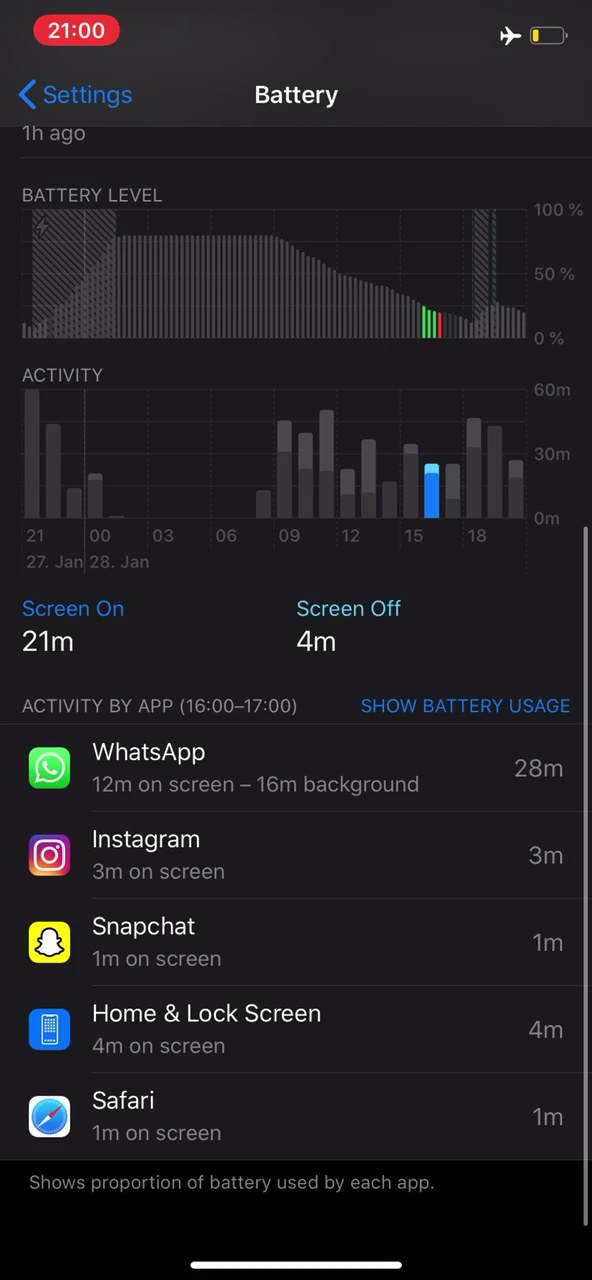activity: (9, 693, 311, 722)
app: (9, 732, 574, 811), (7, 820, 572, 899), (1, 908, 566, 987), (3, 1074, 568, 1153), (4, 997, 566, 1065)
